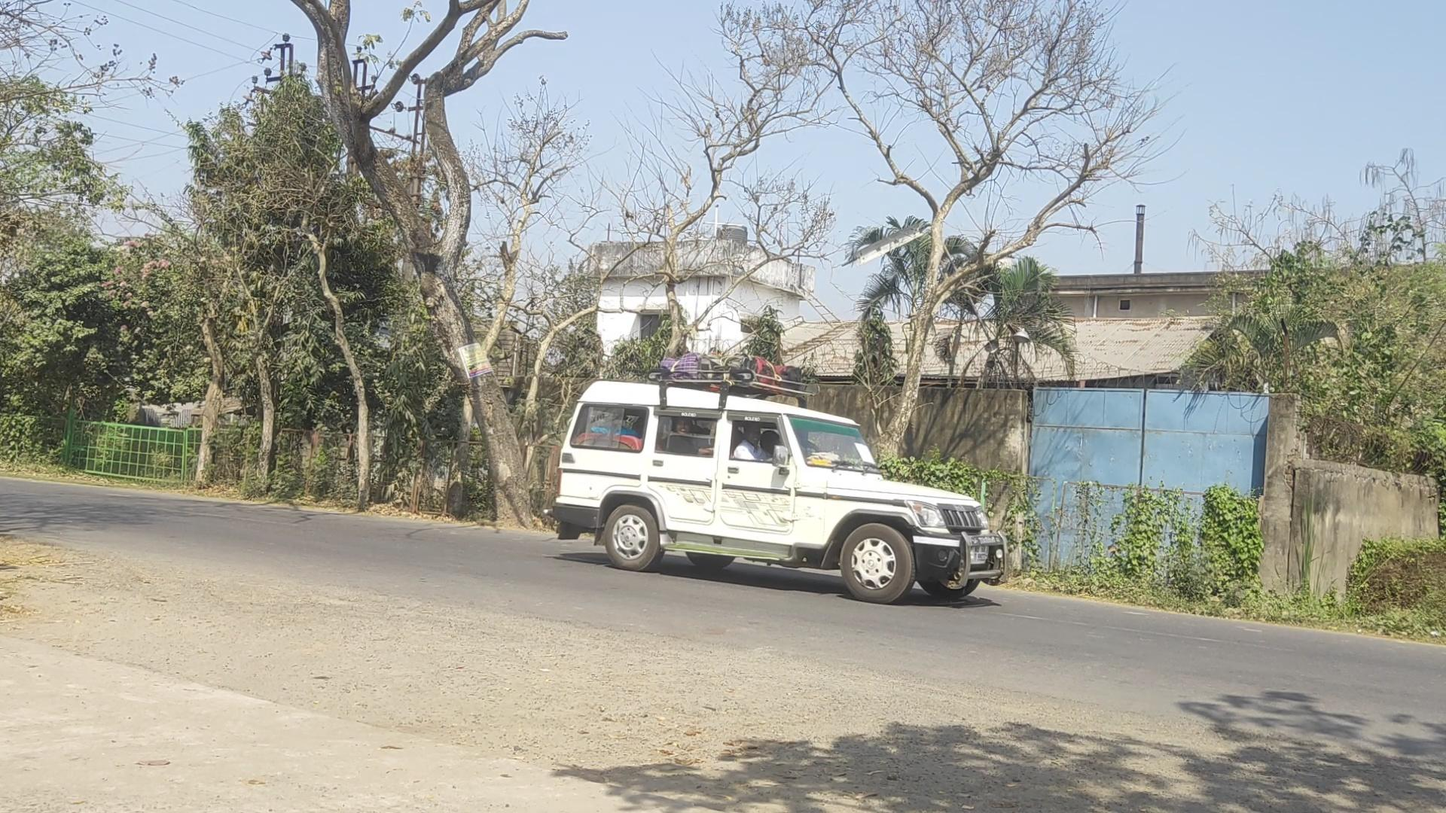car: (544, 355, 1008, 605)
